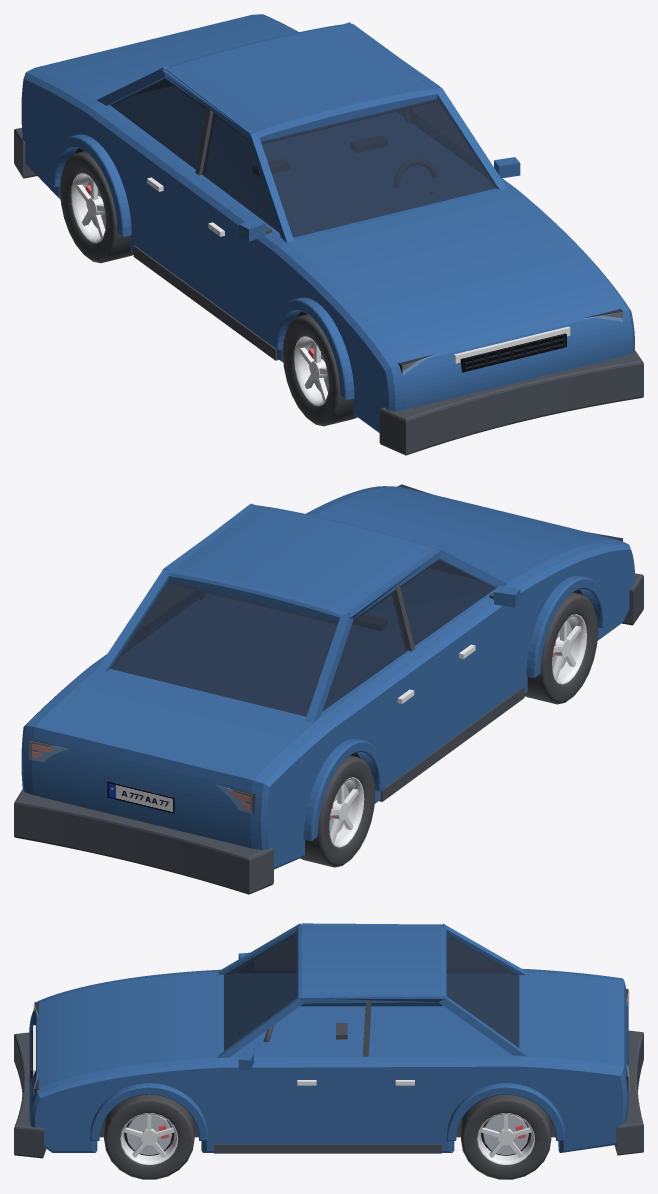
File: car_sedan.glb
3 renders of one model, top to bottom at view 1: azimuth 30°, elevation 25°; view 2: azimuth 150°, elevation 25°; view 3: azimuth 270°, elevation 25°, orthographic. The views are drawn at different scales.
Visible parts, largest first — view 1: SedanLowerBody, CabinGreenhouse, SculptedRoof, SedanFrontBumper, chassis, wheel_FR_spin, wheel_RR_spin, InteriorCabin; view 2: SedanLowerBody, CabinGreenhouse, SculptedRoof, SedanRearBumper, chassis, wheel_FR_spin, wheel_RR_spin, SedanFrontBumper; view 3: SedanLowerBody, CabinGreenhouse, SculptedRoof, chassis, wheel_FL_spin, wheel_RL_spin, SedanFrontBumper, SedanRearBumper.
Boxes of the visible parts, x1,y1,x2,y2 form: SedanLowerBody: [21, 14, 634, 432]; CabinGreenhouse: [96, 22, 507, 243]; SculptedRoof: [162, 23, 440, 143]; SedanFrontBumper: [379, 350, 643, 455]; chassis: [49, 134, 570, 399]; wheel_FR_spin: [282, 314, 357, 426]; wheel_RR_spin: [60, 151, 133, 263]; InteriorCabin: [253, 135, 438, 194]; SedanLowerBody: [21, 486, 634, 869]; CabinGreenhouse: [96, 503, 507, 723]; SculptedRoof: [162, 505, 437, 624]; SedanRearBumper: [14, 789, 273, 894]; chassis: [107, 499, 608, 840]; wheel_FR_spin: [524, 592, 597, 704]; wheel_RR_spin: [300, 755, 375, 867]; SedanFrontBumper: [621, 573, 643, 625]; SedanLowerBody: [29, 968, 628, 1152]; CabinGreenhouse: [218, 923, 526, 1058]; SculptedRoof: [296, 924, 446, 1006]; chassis: [30, 952, 628, 1153]; wheel_FL_spin: [104, 1094, 194, 1179]; wheel_RL_spin: [461, 1094, 551, 1179]; SedanFrontBumper: [14, 1032, 46, 1158]; SedanRearBumper: [614, 1030, 643, 1155].
Bounding box in the file's own units: 1.97 × 1.47 × 4.87.
16 materials, 2 textured.
